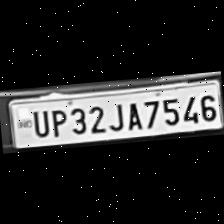2: (84, 100, 107, 134)
3: (66, 102, 88, 134)
4: (178, 92, 198, 123)
5: (158, 92, 180, 125)
6: (196, 90, 218, 121)
7: (138, 96, 160, 128)
A: (122, 97, 142, 129)
J: (106, 99, 125, 130)
P: (46, 104, 68, 136)
U: (28, 106, 50, 138)
